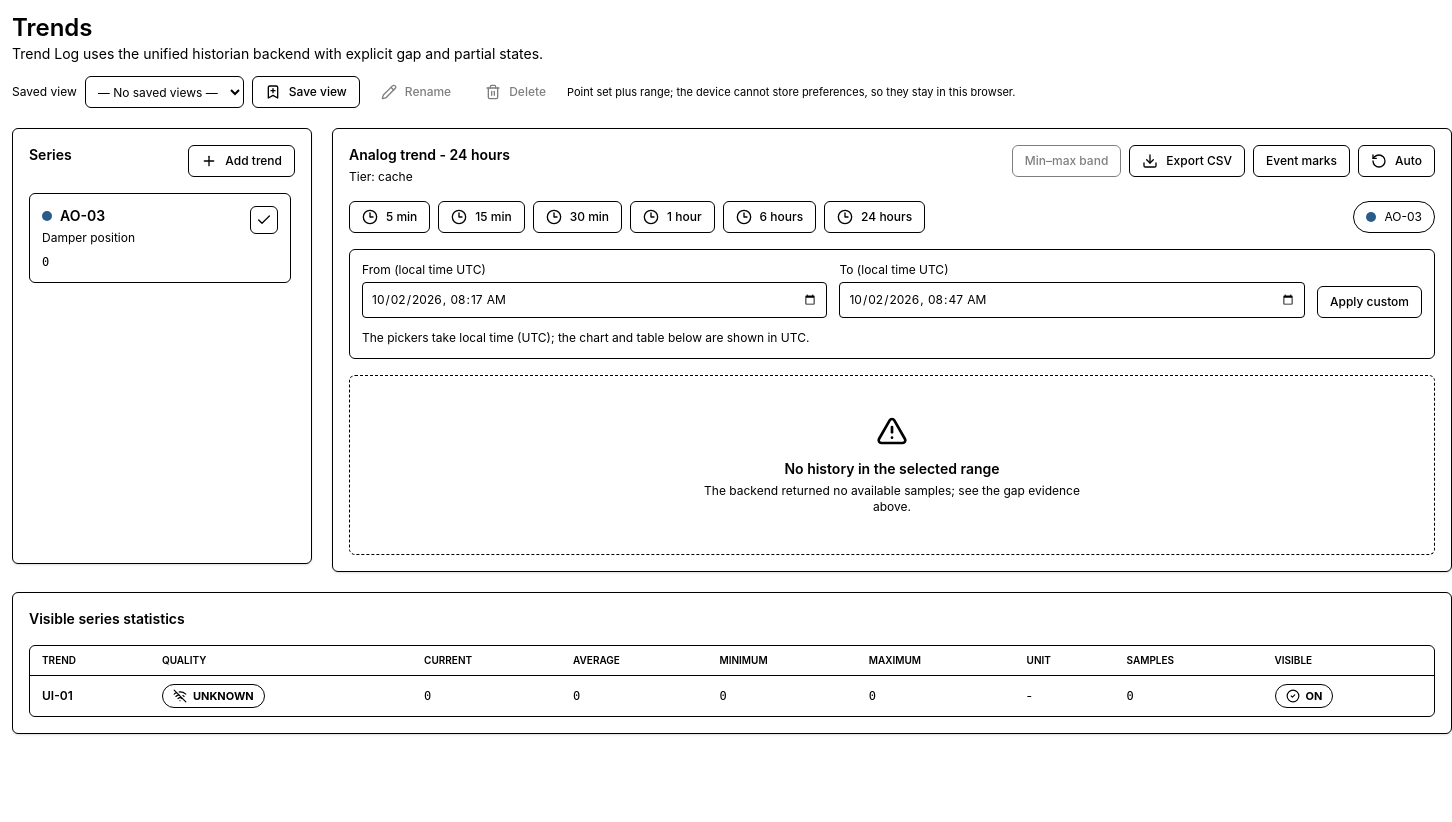
Test: Trends history request routing › migrates a stale AO-19 preference before applying Custom
Replace the text in the field labelled "From (local time UTC)" with "2026-07-22T03:10" at (595, 300), box [362,282,828,318]
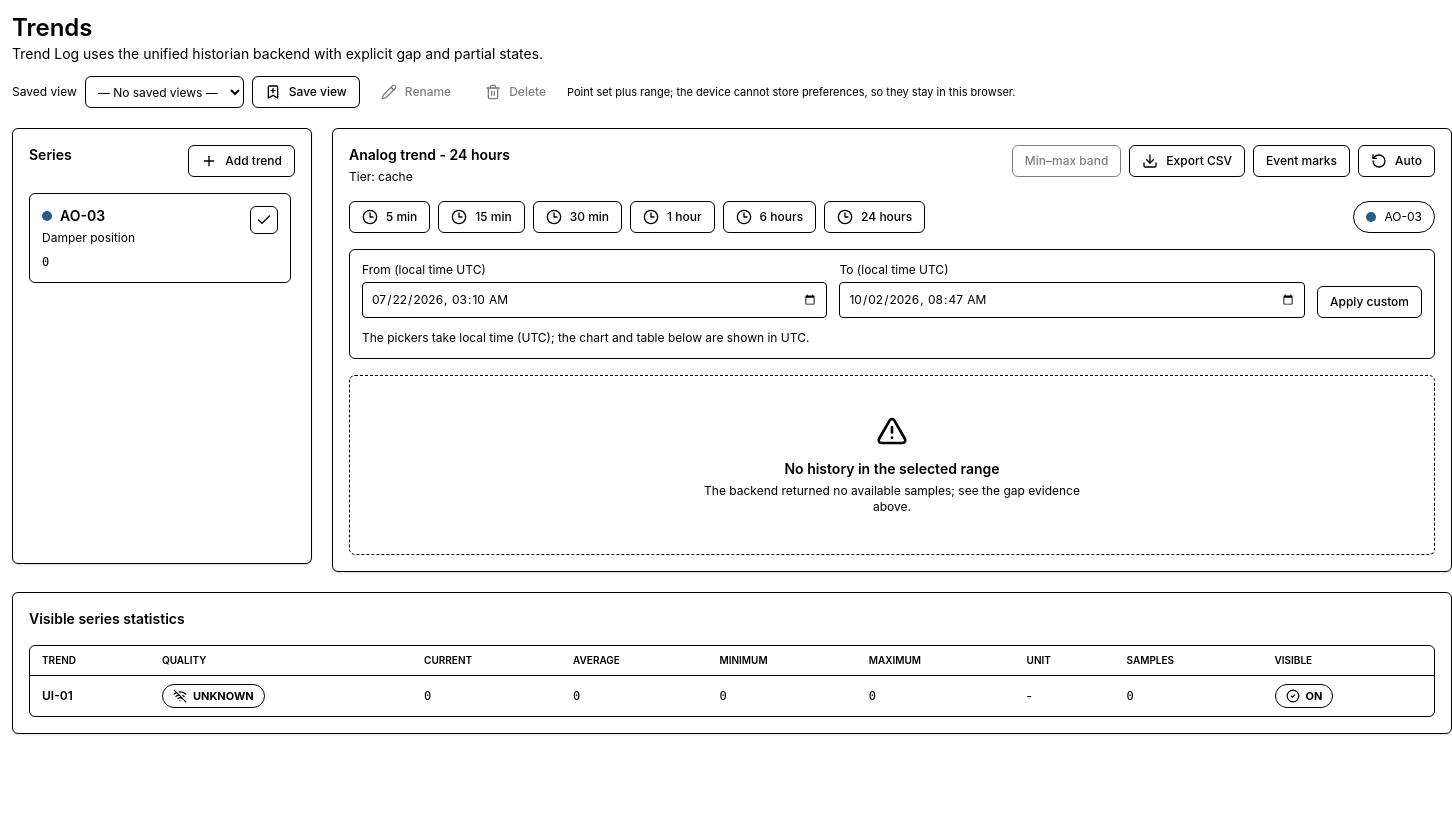
Replace the text in the field labelled "To (local time UTC)" with "2026-07-23T03:40" at (1072, 300), box [840,282,1305,318]
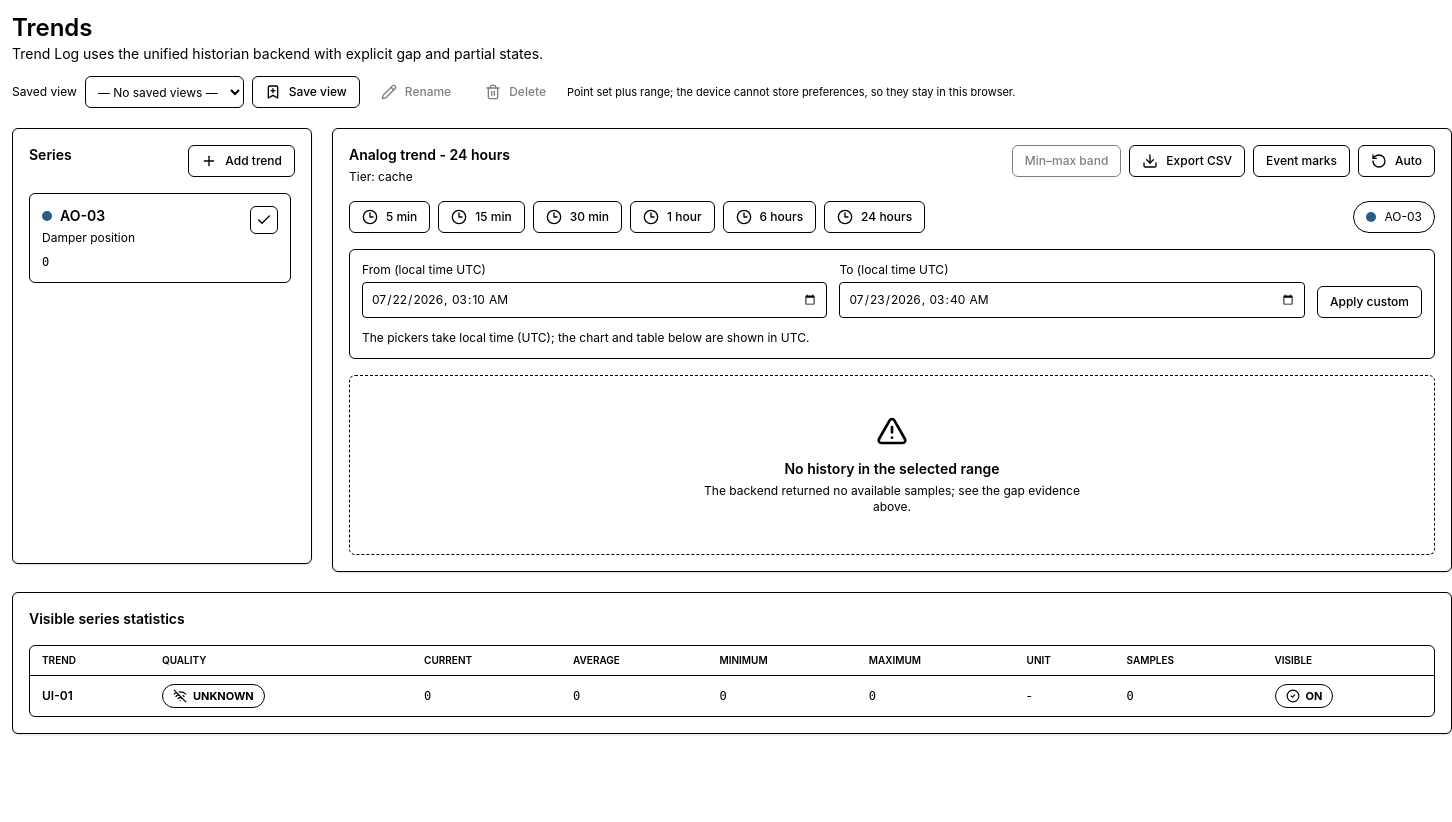
Click the button "Apply custom" at (1370, 302), box [1317,286,1422,318]
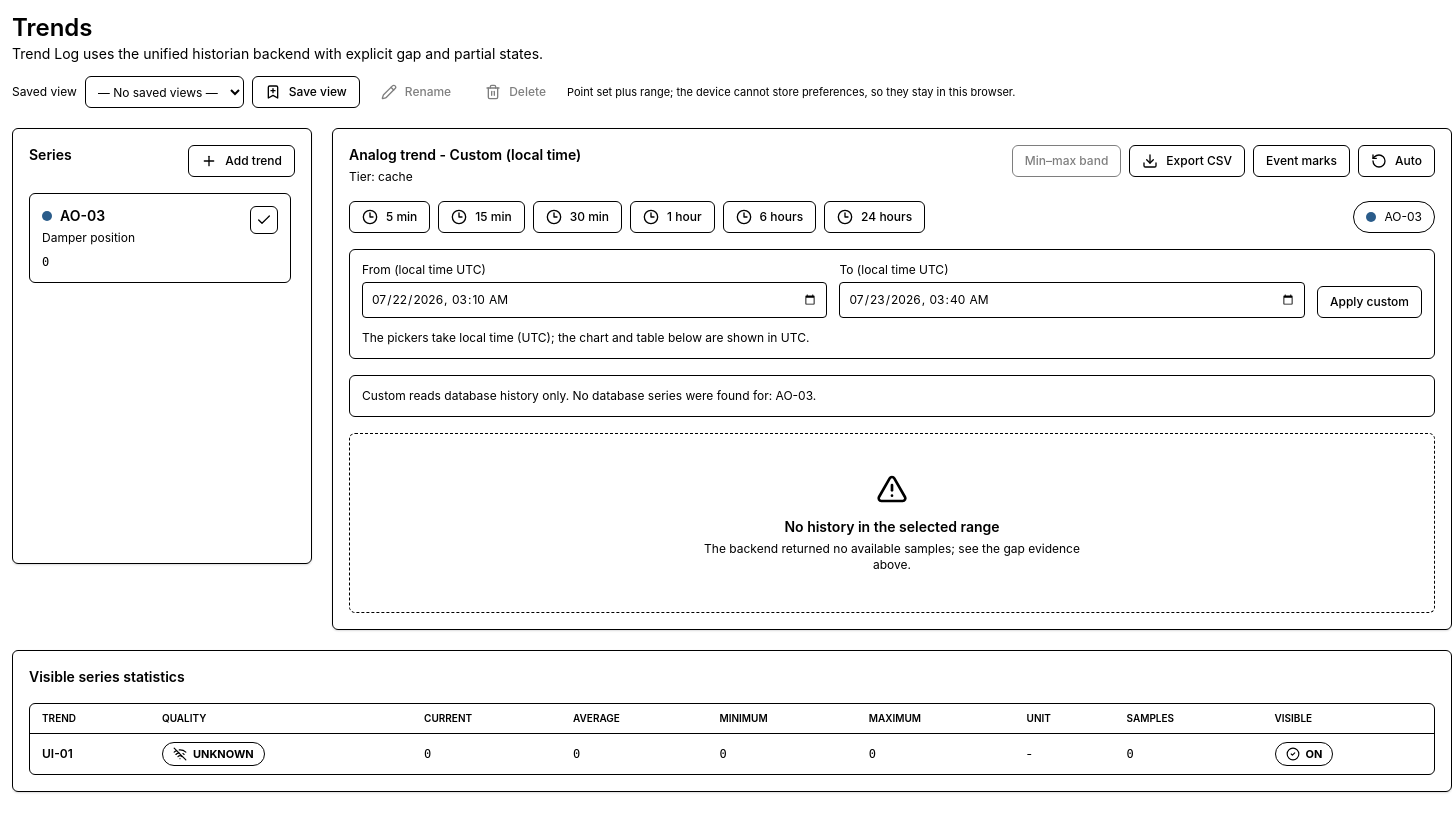
Expected: the text "AO-03" is shown, [42,207,105,224]
Expected: the heading "Analog trend - Custom (local time)" is shown, [349,145,581,165]
